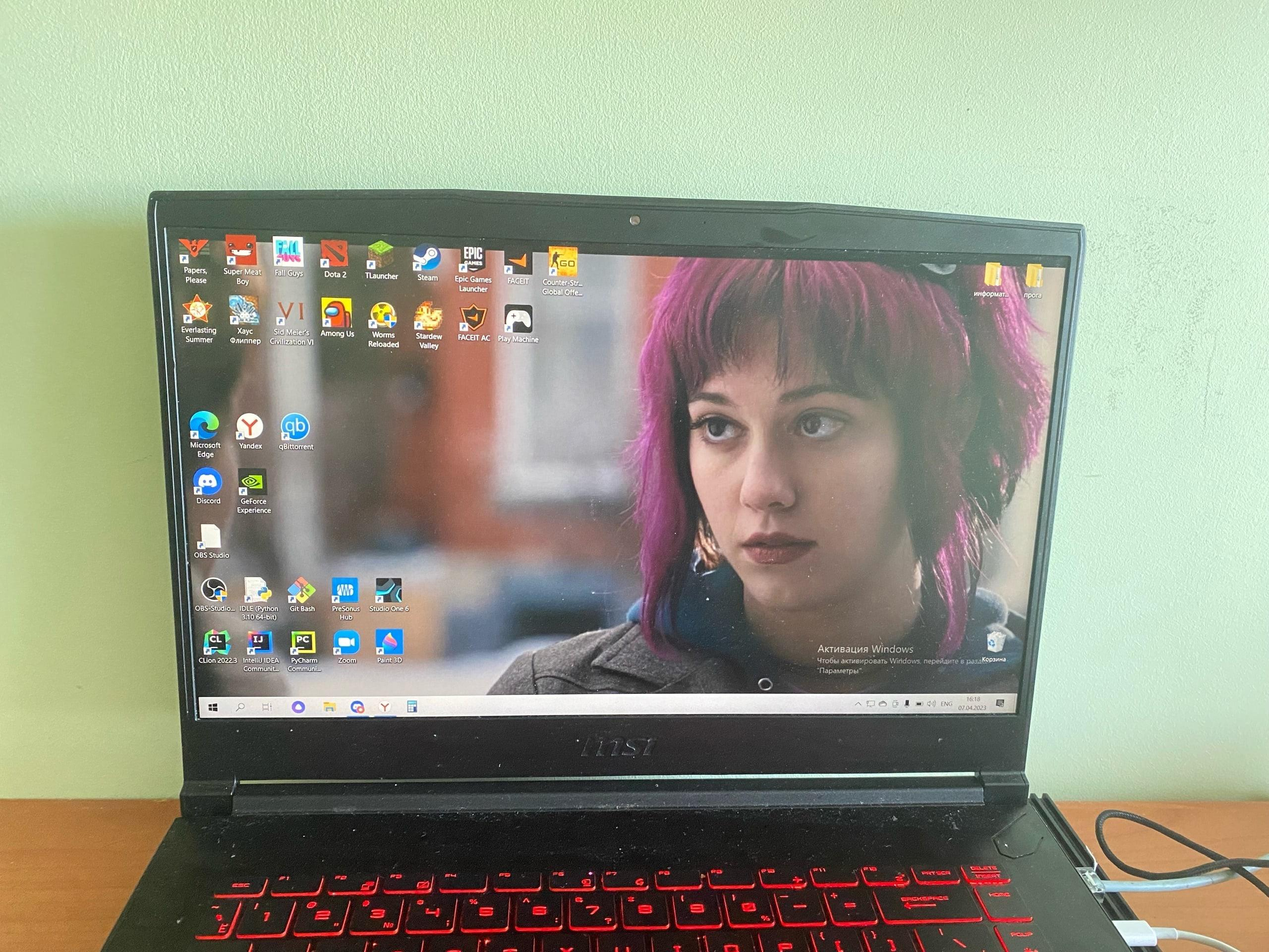monitor: (143, 187, 1091, 797)
